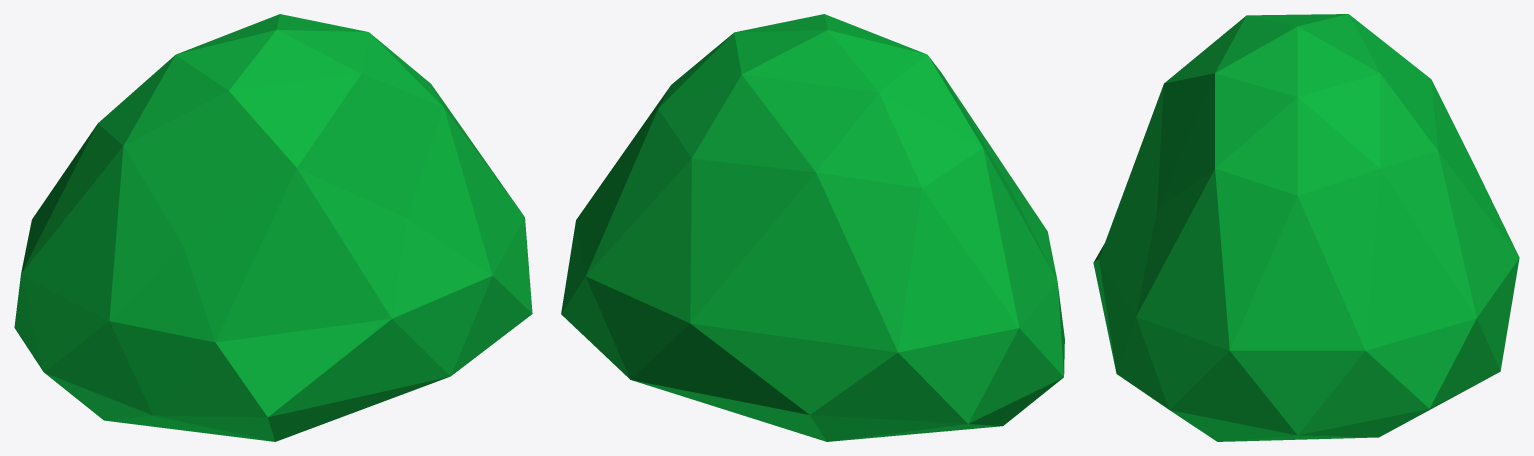
Rendered from bush_03.glb.
3 renders of one model, left to right at view 1: azimuth 30°, elevation 25°; view 2: azimuth 150°, elevation 25°; view 3: azimuth 270°, elevation 25°, orthographic.
Parts seen in each view (by area): view 1: Shurb_3; view 2: Shurb_3; view 3: Shurb_3.
Part boxes in pixels (left/top/right/bottom): Shurb_3: left=14, top=14, right=532, bottom=441; Shurb_3: left=561, top=14, right=1064, bottom=441; Shurb_3: left=1093, top=14, right=1519, bottom=441.
Size of the model in its own units: 3.41 by 2.63 by 2.72.
1 material, 1 textured.
